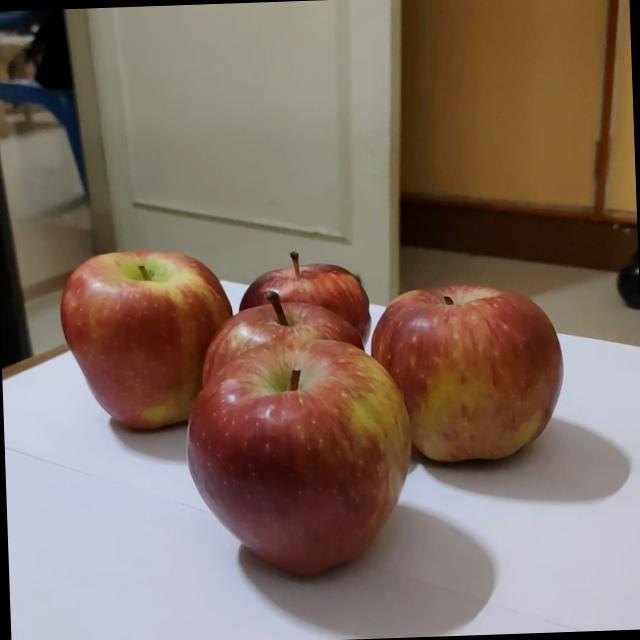apple: (162, 299, 410, 558), (368, 250, 570, 448), (50, 218, 236, 422), (182, 254, 362, 373), (232, 222, 376, 332)
